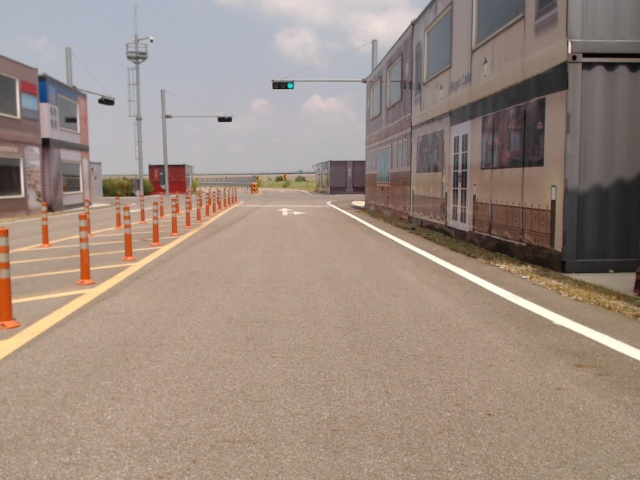green_3: (272, 82, 295, 90)
